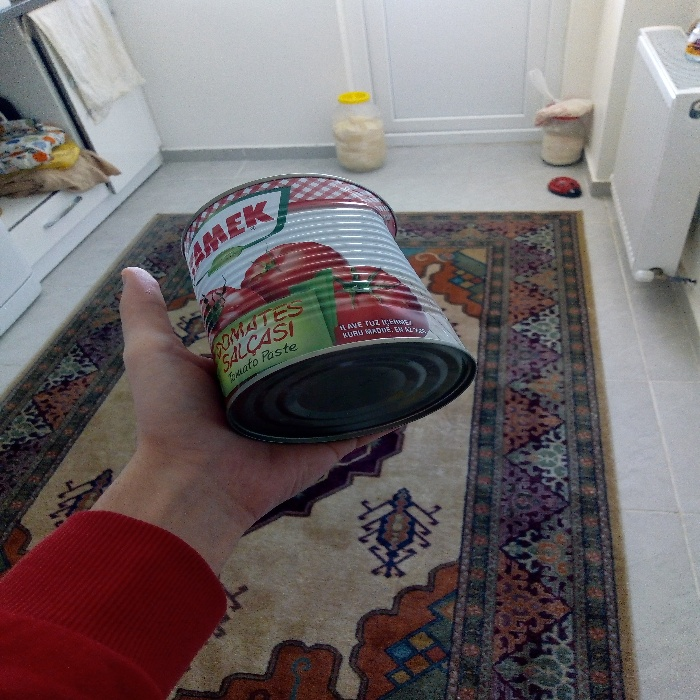salca: (152, 158, 492, 454)
